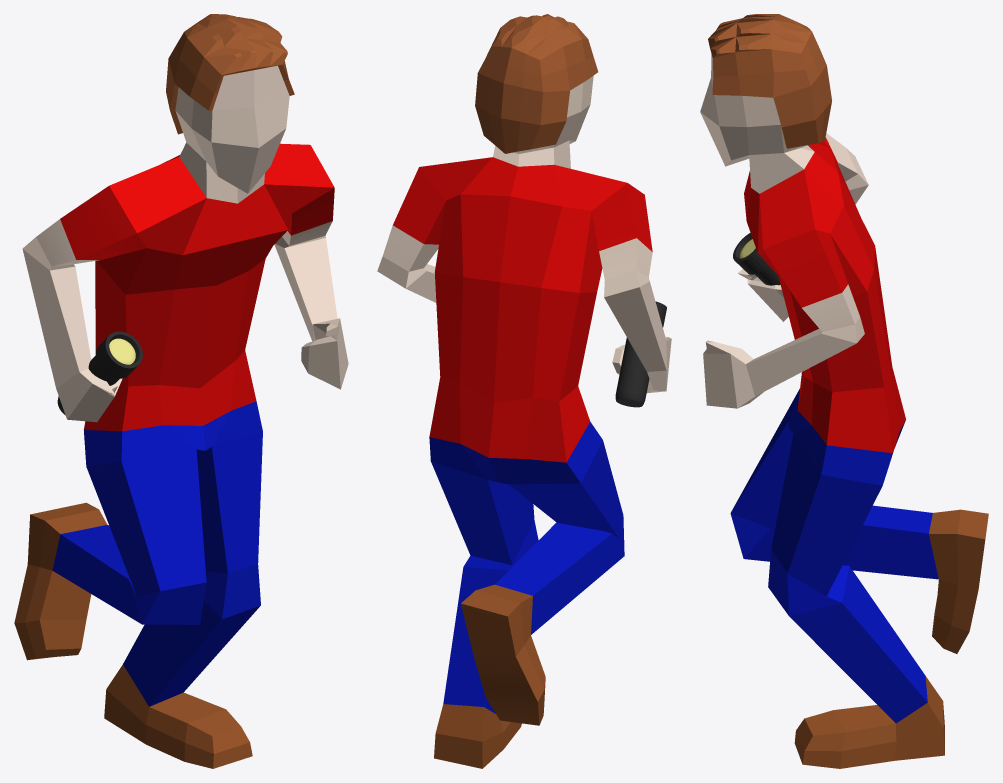
File: Human_running_11.fbx
3 renders of one model, left to right at view 1: azimuth 30°, elevation 25°; view 2: azimuth 150°, elevation 25°; view 3: azimuth 270°, elevation 25°, orthographic. The views are drawn at different scales.
Visible parts, largest first — view 1: Person.004, Flashlight; view 2: Person.004, Flashlight; view 3: Person.004, Flashlight.
Boxes of the visible parts, x1=… form: Person.004: x1=14, y1=14, x2=348, y2=768; Flashlight: x1=57, y1=331, x2=142, y2=415; Person.004: x1=377, y1=14, x2=671, y2=768; Flashlight: x1=615, y1=301, x2=666, y2=407; Person.004: x1=700, y1=14, x2=988, y2=768; Flashlight: x1=733, y1=233, x2=780, y2=285.
Size of the model in its own units: 0.5948 by 1.48 by 0.5315.
